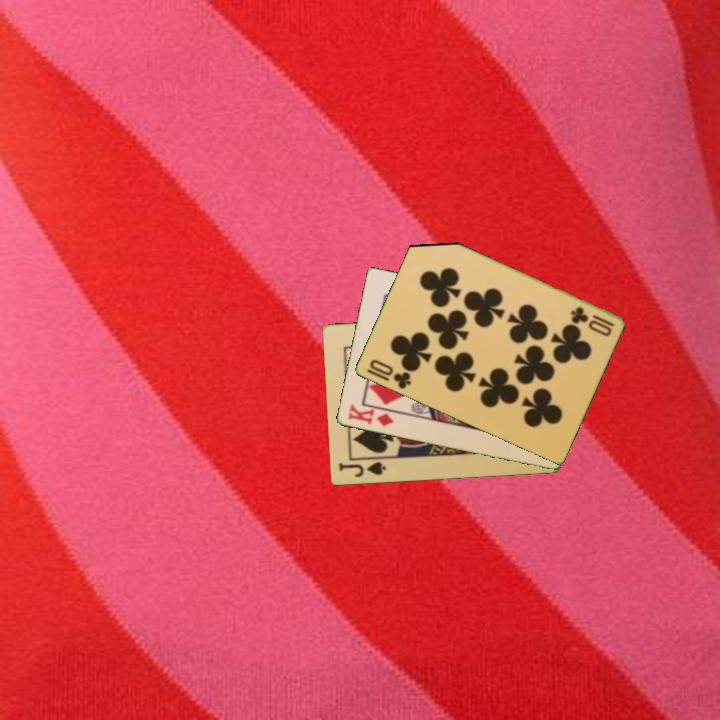10c: (366, 356, 414, 392), (567, 303, 617, 330)
Js: (335, 458, 388, 480)
Kd: (344, 401, 397, 429)
